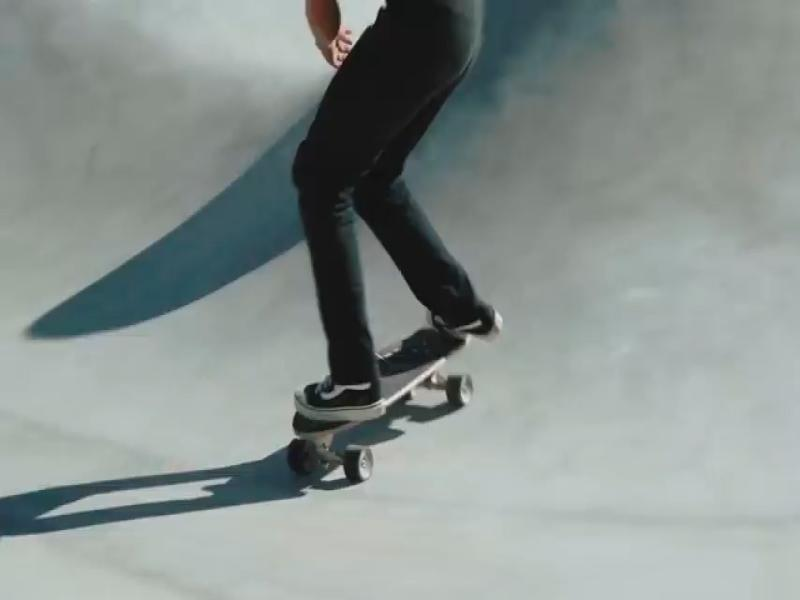person: (292, 0, 502, 422)
skate: (288, 327, 473, 483)
